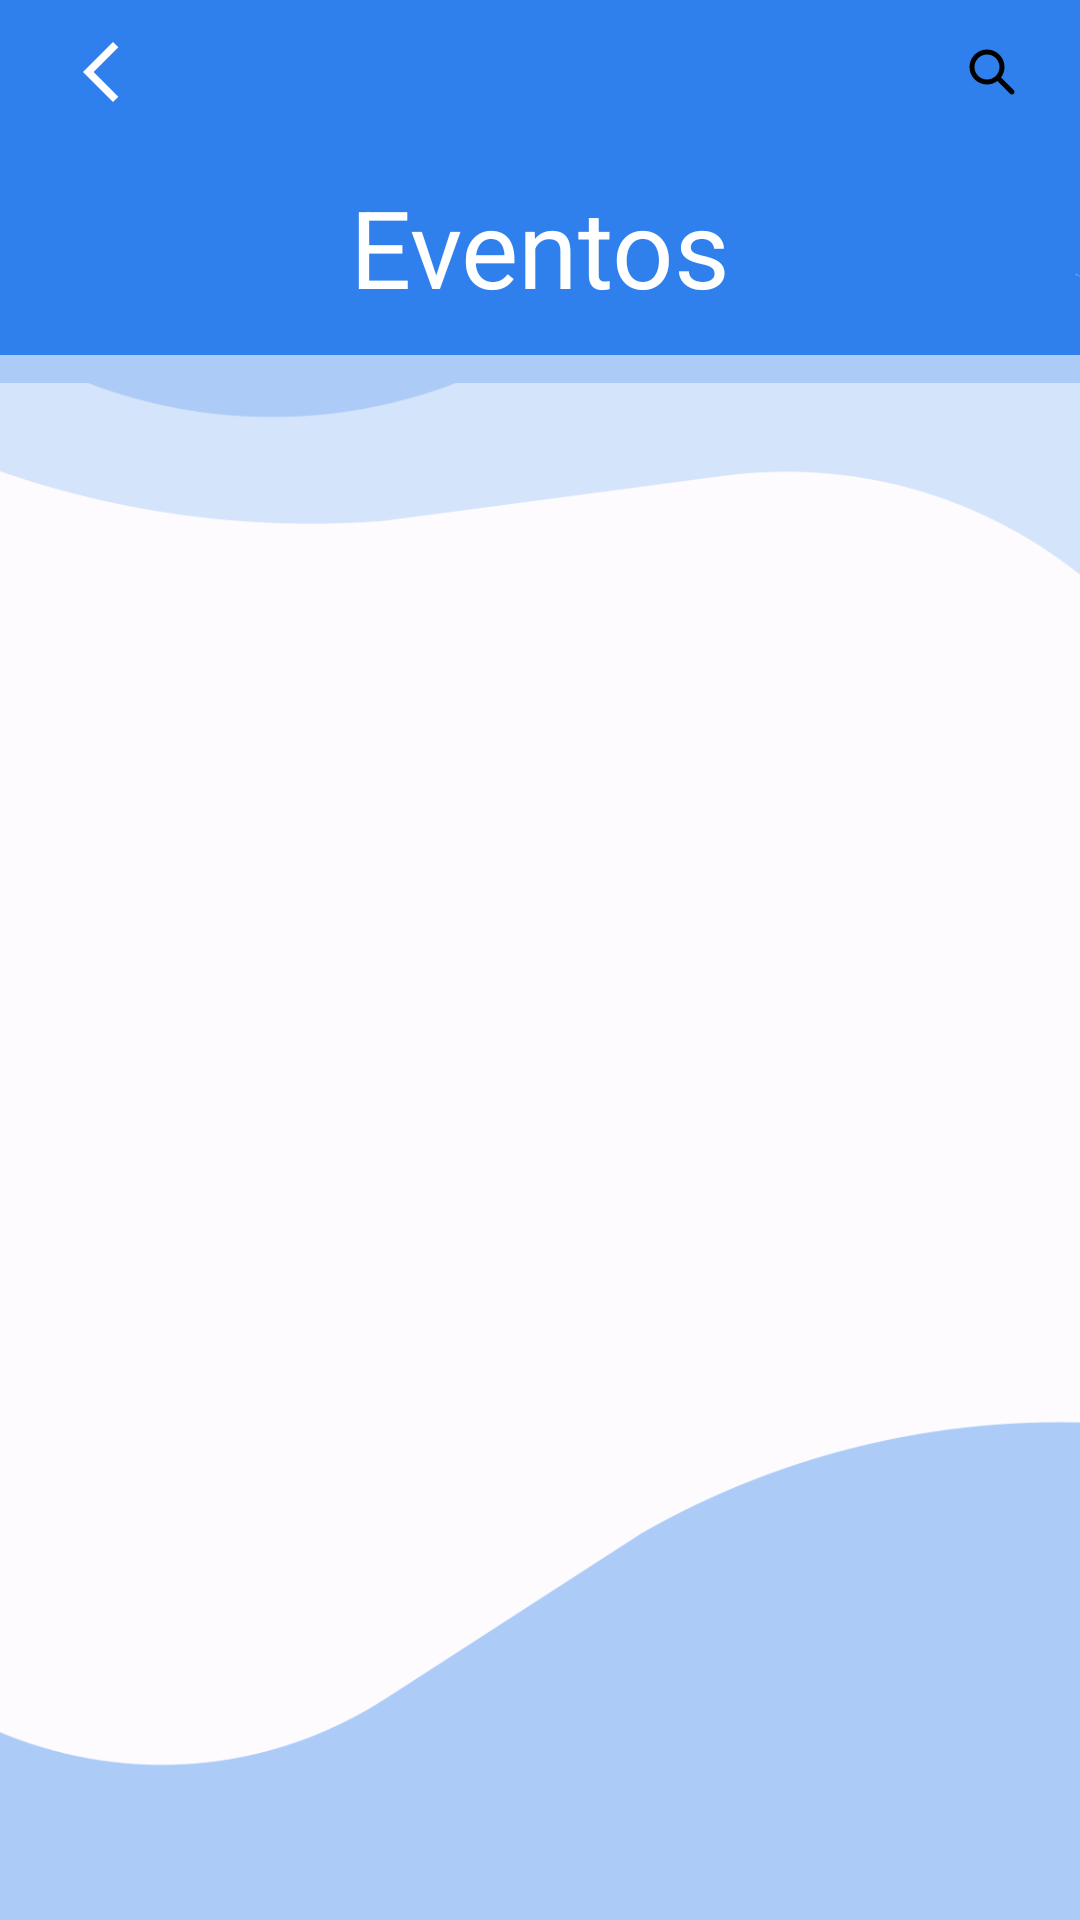

Screen size 1080×1920. Icon name, then its box in pixels as box(x1, y1, x2, y2):
Go back: box(83, 42, 118, 102)
